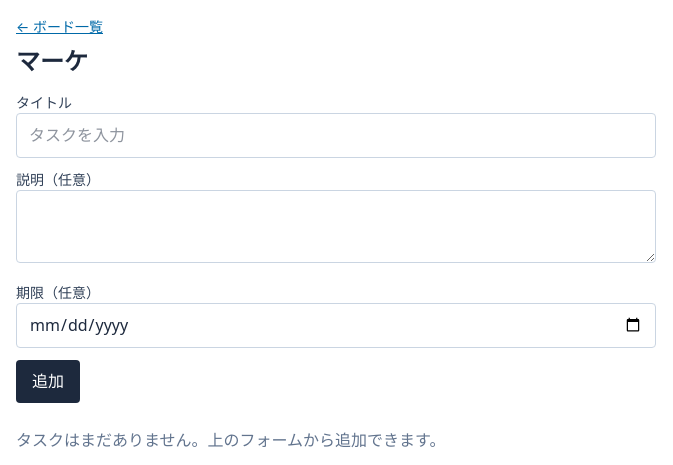
Test: ルーティング › ボードを戻ると一覧に帰れる
Click the link "← ボード一覧" at (60, 26), box [16, 17, 103, 36]
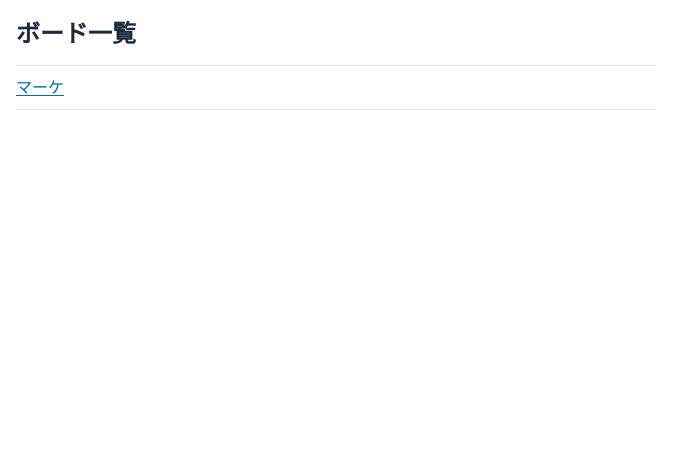
Result: the heading "ボード一覧" is shown at [16, 16, 136, 49]
